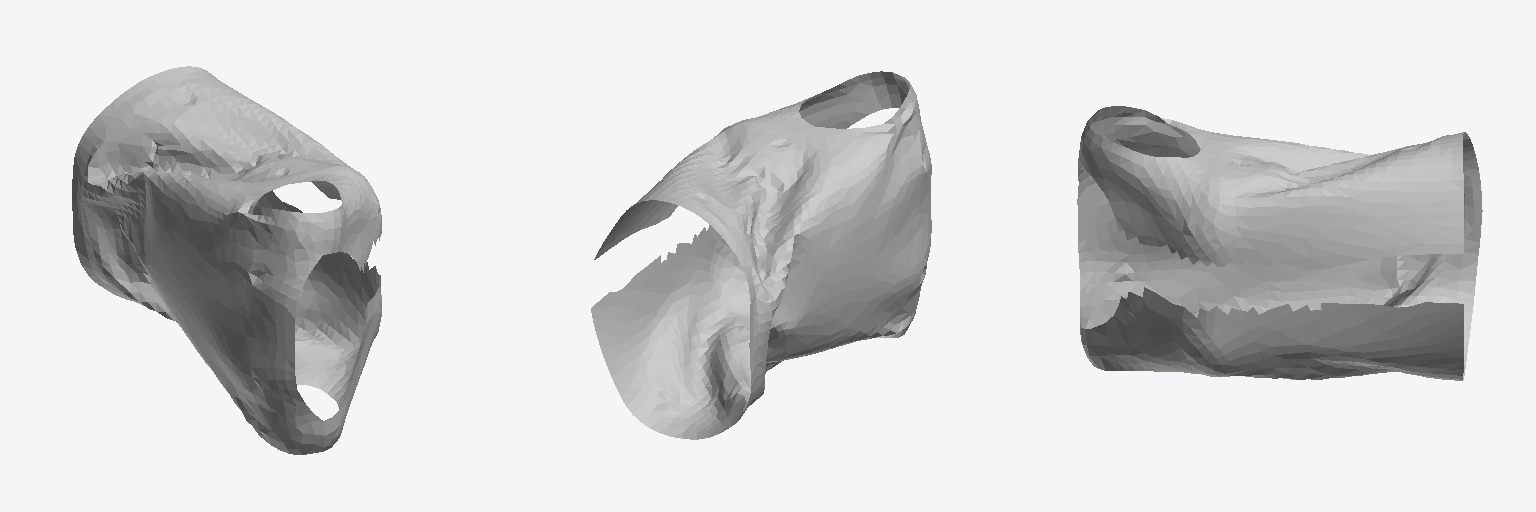
Rendered from cardigan_sparser.obj.
3 renders of one model, left to right at view 1: azimuth 30°, elevation 25°; view 2: azimuth 150°, elevation 25°; view 3: azimuth 270°, elevation 25°, orthographic.
Size of the model in its own units: 0.1816 by 0.2401 by 0.3607.